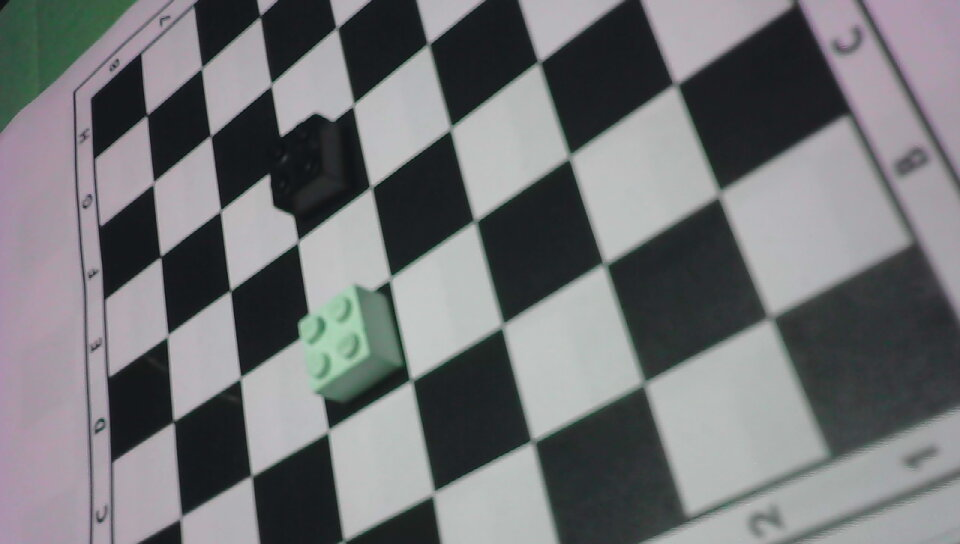bp: (263, 108, 358, 222)
